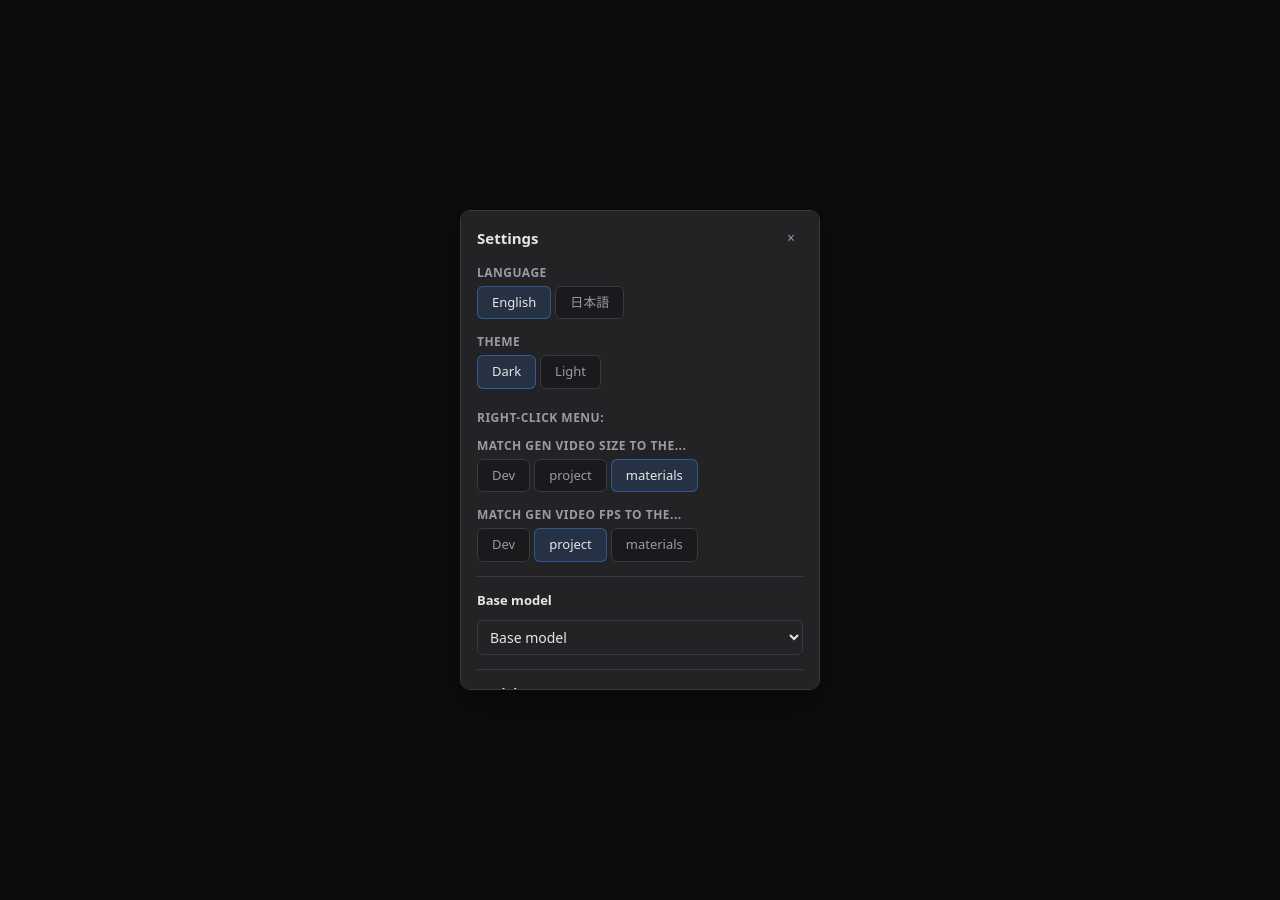
Test case: SettingsPanel › toggling the language button switches the panel's own copy to Japanese
Click the button "日本語" at (590, 302), box [555,286,624,319]
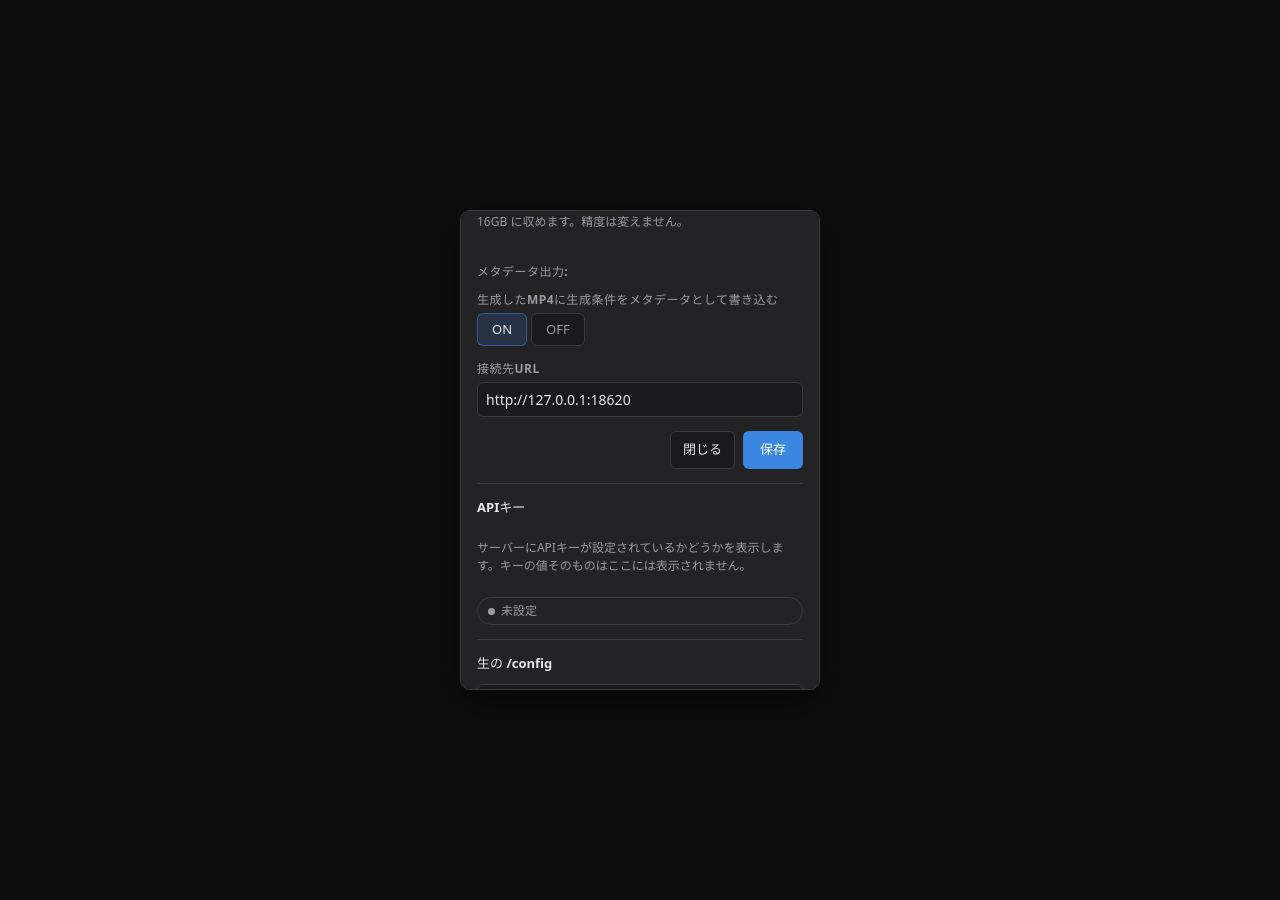
Result: the button "保存" is shown at [743,431,803,468]
